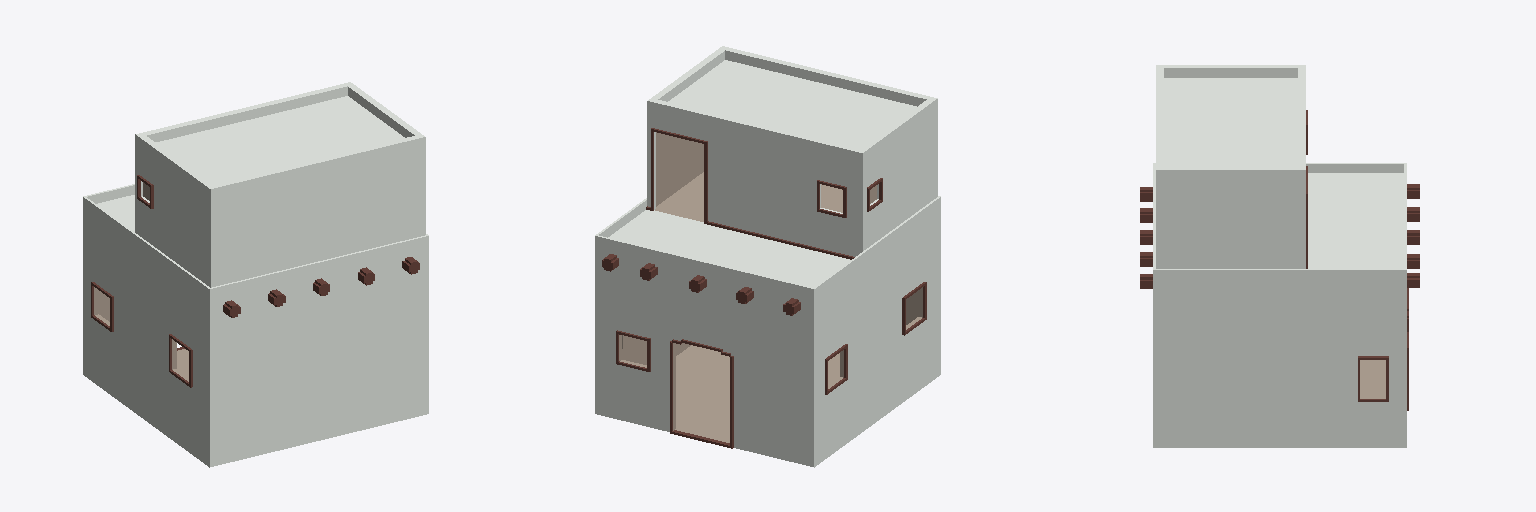
The picture shows the model from 3 angles: view 1: azimuth 30°, elevation 25°; view 2: azimuth 150°, elevation 25°; view 3: azimuth 270°, elevation 25°; orthographic projection.
Parts seen in each view (by area): view 1: object 1; view 2: object 1; view 3: object 1.
Part boxes in pixels (left/top/right/bottom): object 1: left=83, top=82, right=428, bottom=467; object 1: left=595, top=46, right=940, bottom=467; object 1: left=1140, top=65, right=1419, bottom=447.
Bounding box in the file's own units: 10 × 11.8 × 10.8.
1 materials, 1 textured.